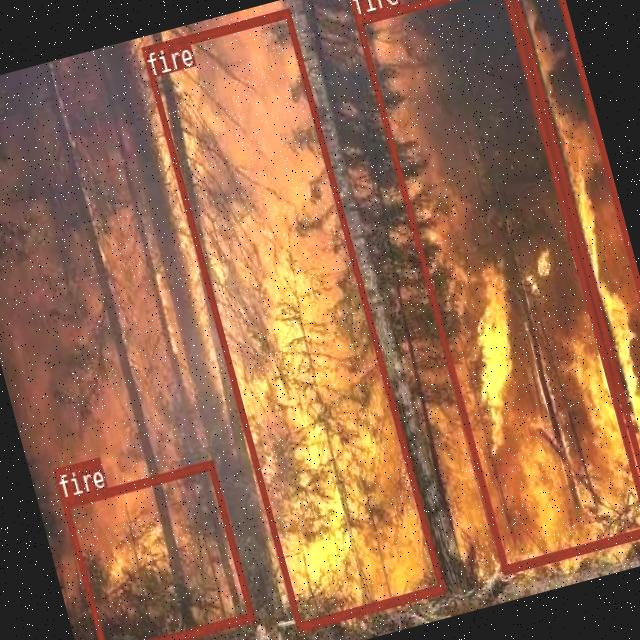fire: (140, 7, 444, 630), (353, 0, 640, 572), (498, 0, 640, 505), (60, 458, 253, 640)
